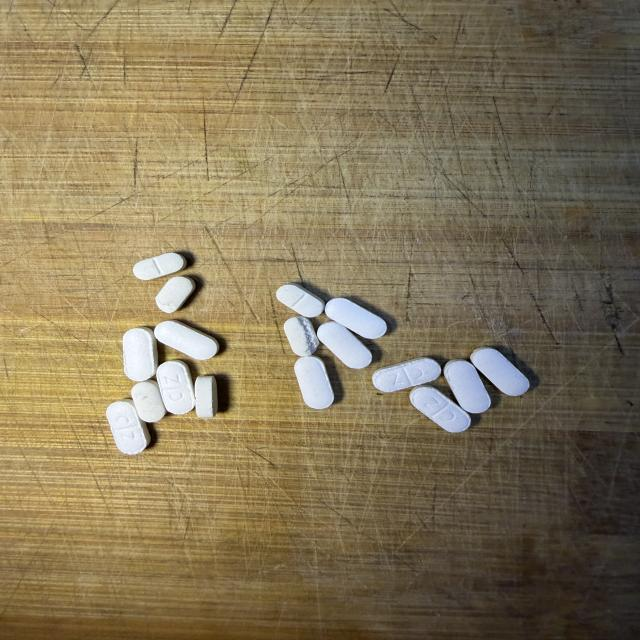pill: (471, 347, 529, 396), (410, 385, 470, 432), (318, 322, 372, 368), (155, 321, 218, 360), (325, 298, 386, 338), (444, 360, 490, 413), (107, 399, 150, 454), (373, 358, 441, 392), (157, 360, 196, 414), (295, 356, 333, 409), (123, 327, 158, 381), (276, 284, 324, 317), (133, 253, 186, 280), (132, 380, 166, 422), (156, 277, 195, 313), (284, 316, 319, 356), (195, 376, 217, 417)
